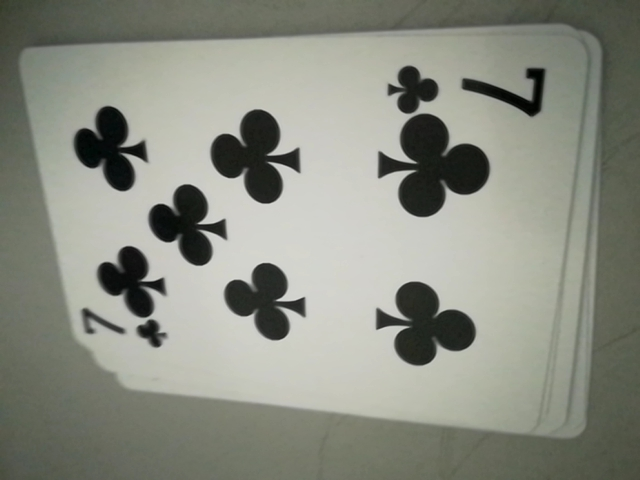mh 7: (384, 54, 550, 119), (72, 303, 166, 355)
